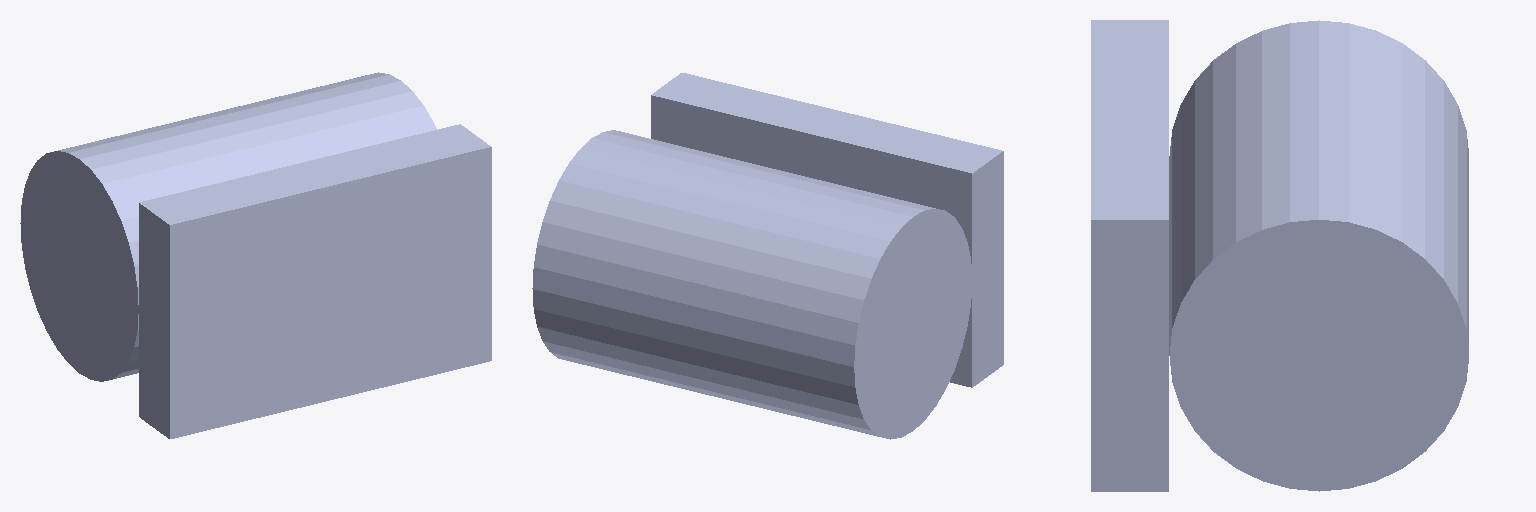
robot.urdf — Part1:
<?xml version="1.0"?>
<robot name="Part1">
  <link name="Part1">
    <inertial>
      <origin
        xyz="0.05 -2.6770372008787E-20 -0.010079"
        rpy="0 0 0" />
      <mass
        value="0.42494" />
      <inertia
        ixx="0.000328850525932724"
        ixy="7.5589804202092E-21"
        ixz="-3.59545235139749E-21"
        iyy="0.000566300403402778"
        iyz="6.51792741082386E-22"
        izz="0.000470788913908716" />
    </inertial>
    <visual>
      <origin
        xyz="1.5707963267949 0 0"
        rpy="0 0 0" />
      <geometry>
        <mesh
          filename="package://MY_ROBO/urdf/Part1.STL" />
      </geometry>
      <material
        name="">
        <color
          rgba="0.79216 0.81961 0.93333 1" />
      </material>
    </visual>
    <collision>
      <origin
        xyz="0 0 0"
        rpy="1.5707963267949 0 0" />
      <geometry>
        <mesh
          filename="package://Part1/meshes/Part1.STL" />
      </geometry>
    </collision>
  </link>
</robot>

--- Facts derived from the render (not from the file) ---
Views: 3 orthographic renders of the robot side by side, from view 1: azimuth 30°, elevation 25°; view 2: azimuth 150°, elevation 25°; view 3: azimuth 270°, elevation 25°.
Robot: Part1 — 1 links, 0 joints (none); root link Part1; default pose: all joints at 0.
Visible links, largest first — view 1: Part1; view 2: Part1; view 3: Part1.
Link boxes in pixels (<box>): Part1: <box>20,72,491,438</box>; Part1: <box>532,73,1003,439</box>; Part1: <box>1091,20,1468,491</box>.
Size in the robot's own frame: 0.1 by 0.0804 by 0.0637 metres.
Meshes: 1 distinct files referenced, 1 mesh visuals loaded (1 binary STL).